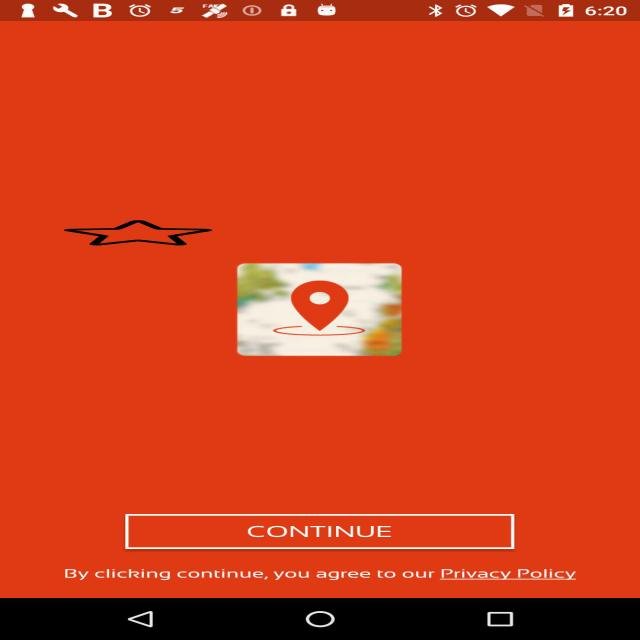forced continuity: (64, 220, 212, 246)
